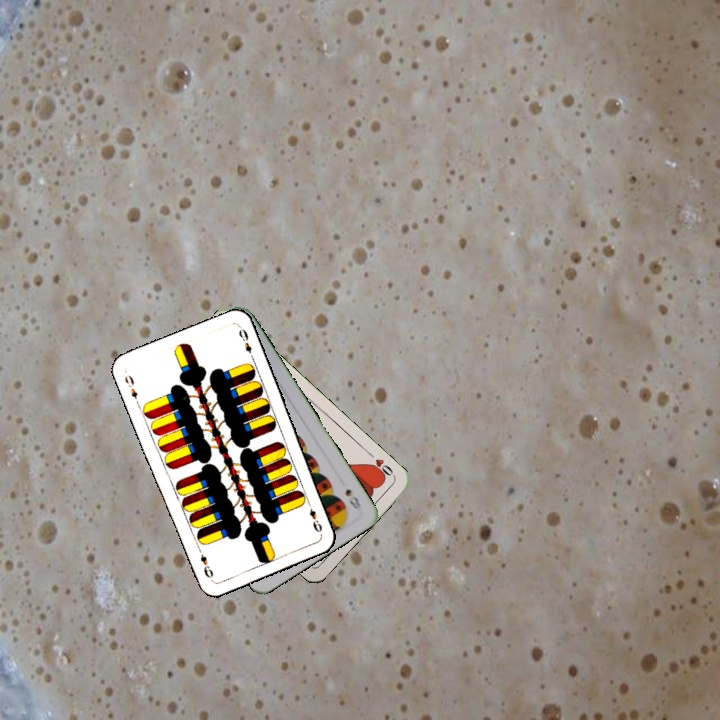E9: (304, 498, 325, 535), (121, 371, 142, 408)
HO: (363, 448, 397, 481)
S8: (341, 484, 364, 512)
